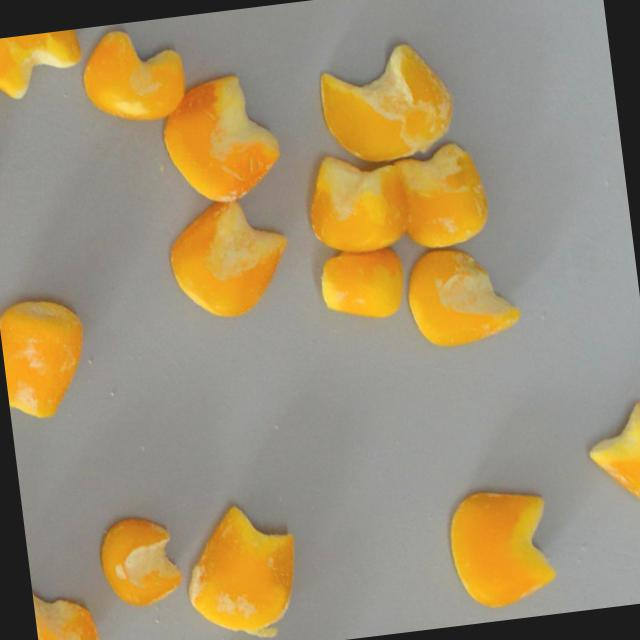no_canjicado: (442, 482, 561, 613), (401, 238, 524, 353), (78, 22, 188, 127), (0, 27, 86, 102)
no_desgerminado: (162, 194, 296, 324)
pelicula: (156, 67, 287, 208), (314, 38, 456, 167), (187, 506, 304, 639), (0, 294, 95, 423), (392, 137, 493, 252), (302, 147, 407, 257), (95, 511, 186, 609), (314, 243, 407, 326), (582, 398, 640, 510), (30, 574, 98, 640)
